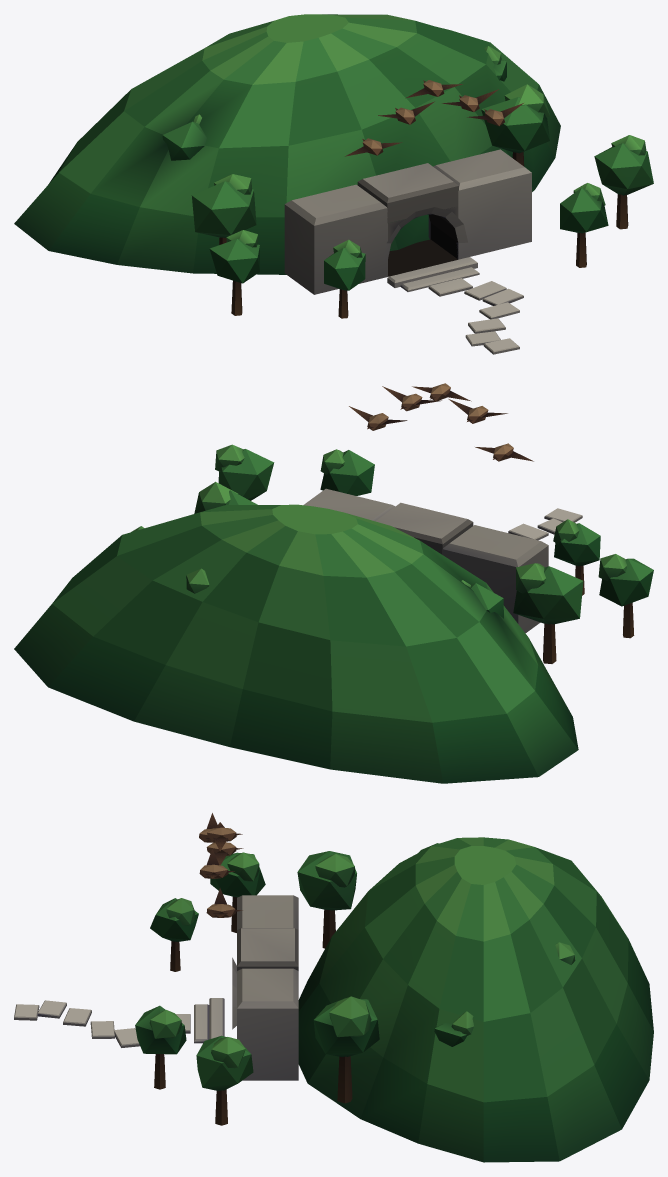
File: cueva_guacharo.glb
3 renders of one model, top to bottom at view 1: azimuth 30°, elevation 25°; view 2: azimuth 150°, elevation 25°; view 3: azimuth 270°, elevation 25°, orthographic. The views are drawn at different scales.
Visible parts, largest first — view 1: colina, fachada_cueva, arboles, camino_piedra, tunel, guacharos, boca_marco; view 2: colina, arboles, fachada_cueva, guacharos, camino_piedra; view 3: colina, arboles, fachada_cueva, camino_piedra, guacharos.
Boxes of the visible parts, x1,y1,x2,y2 form: colina: (14, 14, 560, 274); fachada_cueva: (284, 149, 531, 294); arboles: (162, 46, 653, 318); camino_piedra: (387, 257, 523, 354); tunel: (388, 214, 458, 276); guacharos: (345, 80, 523, 156); boca_marco: (382, 207, 467, 263); colina: (14, 504, 578, 783); arboles: (131, 444, 653, 663); fachada_cueva: (303, 488, 548, 633); guacharos: (349, 383, 533, 461); camino_piedra: (508, 508, 582, 540); colina: (298, 837, 653, 1162); arboles: (135, 843, 575, 1125); fachada_cueva: (237, 895, 298, 1080); camino_piedra: (14, 998, 224, 1047); guacharos: (199, 813, 243, 917).
Bounding box in the file's own units: 80 × 29.5 × 83.02.
